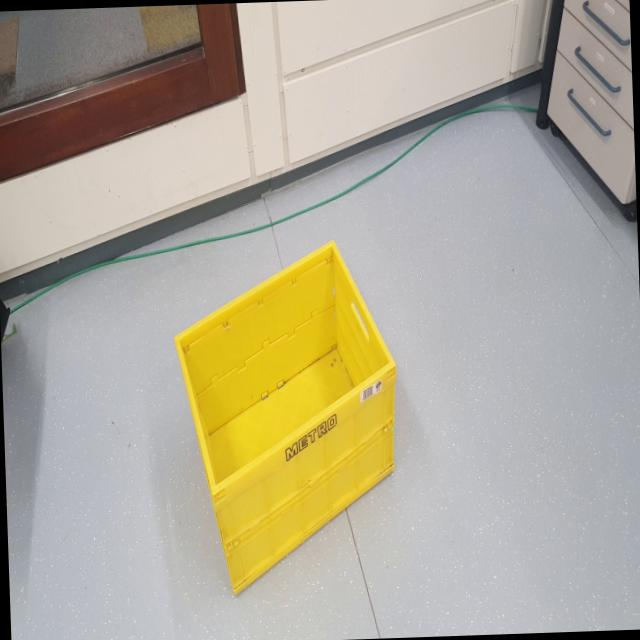box: (164, 224, 408, 606)
